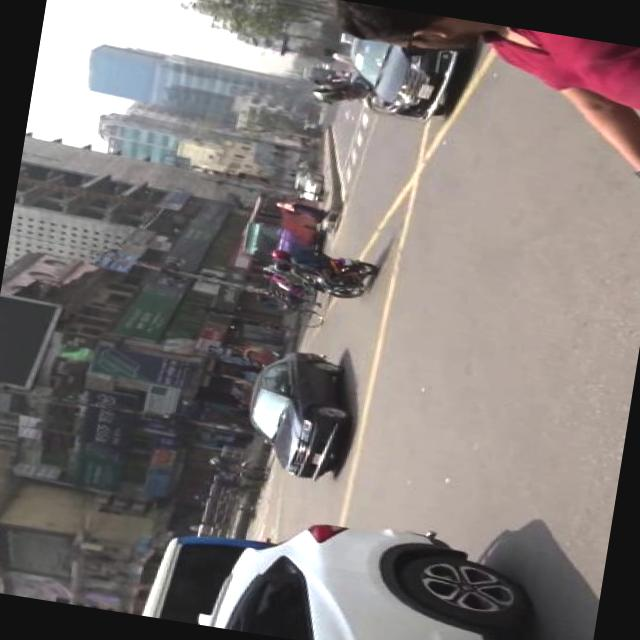bus: (238, 187, 322, 265), (300, 63, 328, 83)
car: (198, 498, 532, 640), (238, 344, 350, 481), (336, 29, 458, 120), (292, 168, 322, 200)
motorcycle: (254, 260, 330, 328), (199, 450, 269, 512), (309, 65, 396, 114), (303, 250, 379, 300), (242, 342, 283, 366), (230, 376, 253, 392)
truck: (142, 523, 264, 632)
